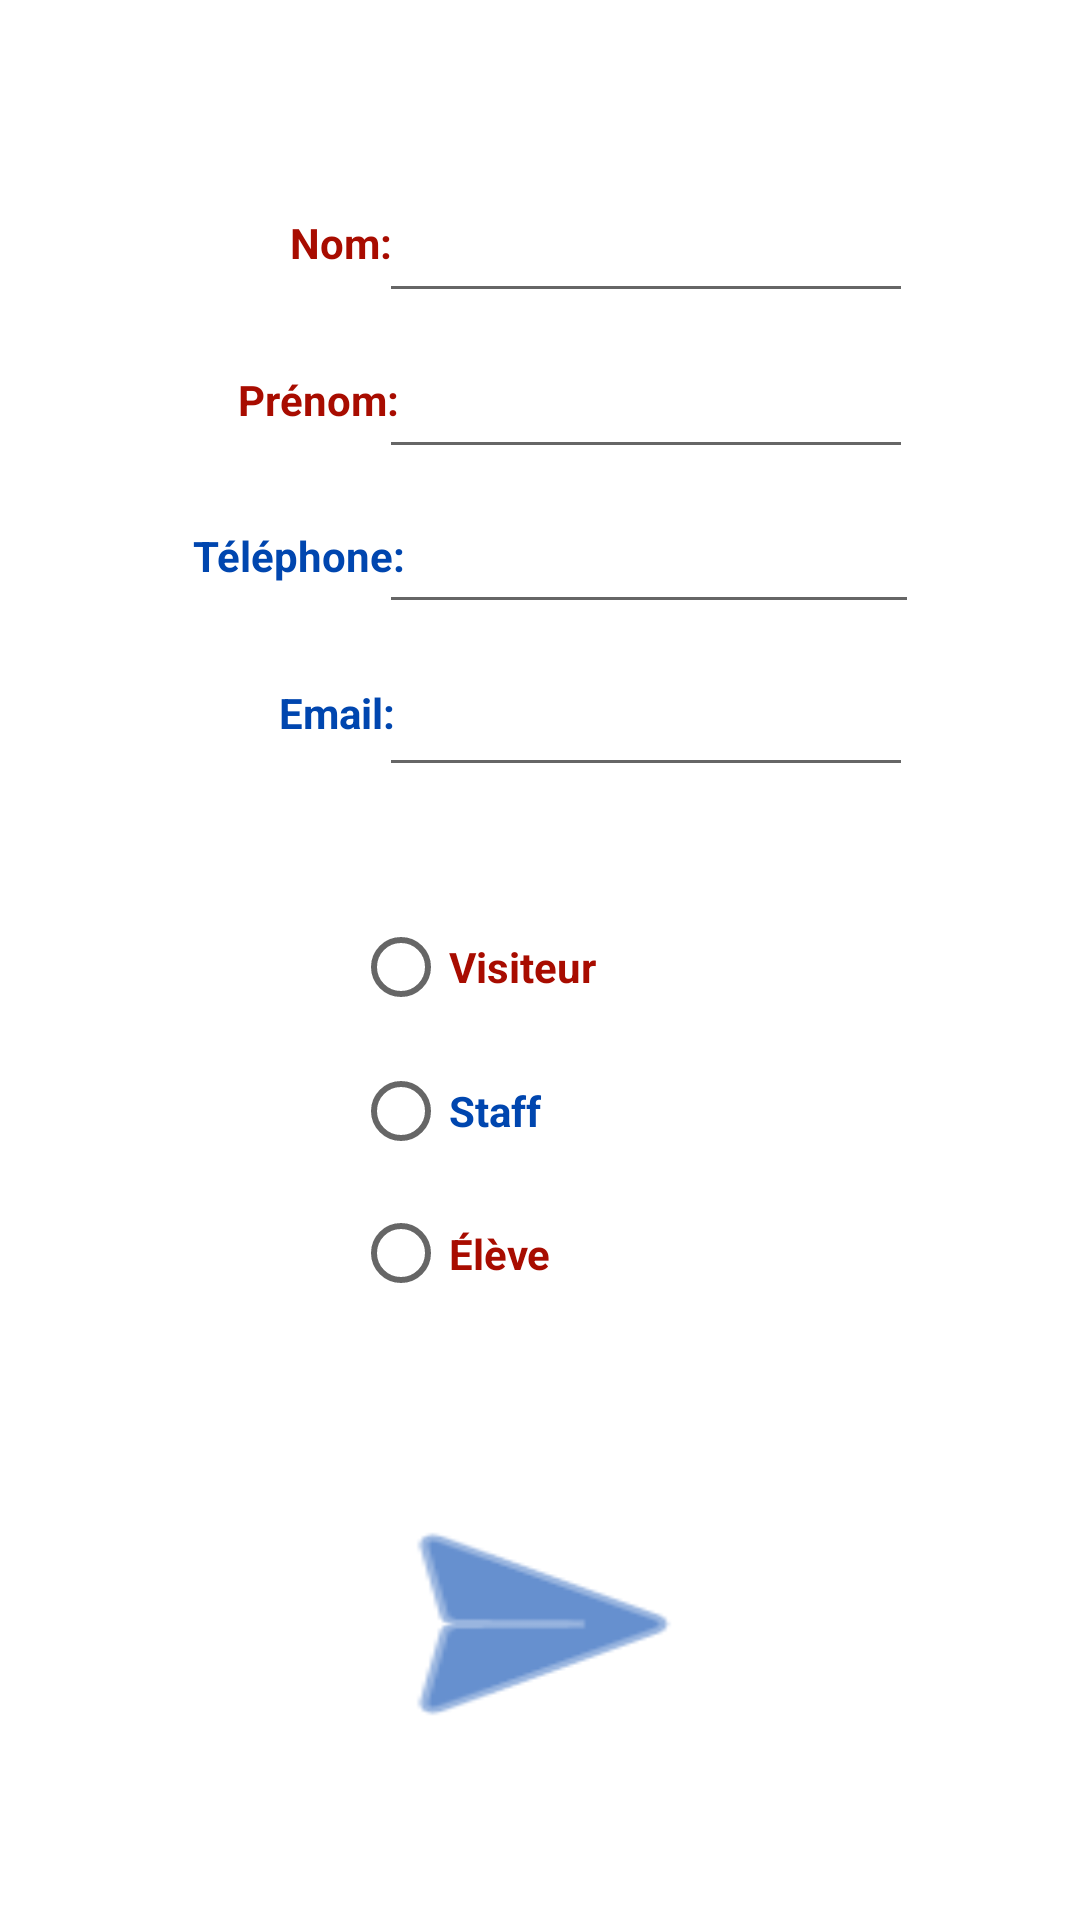

Icon click points for this 1080 × 1920 phone screenshot, format (x=x, y=y):
send: (x=543, y=1624)
